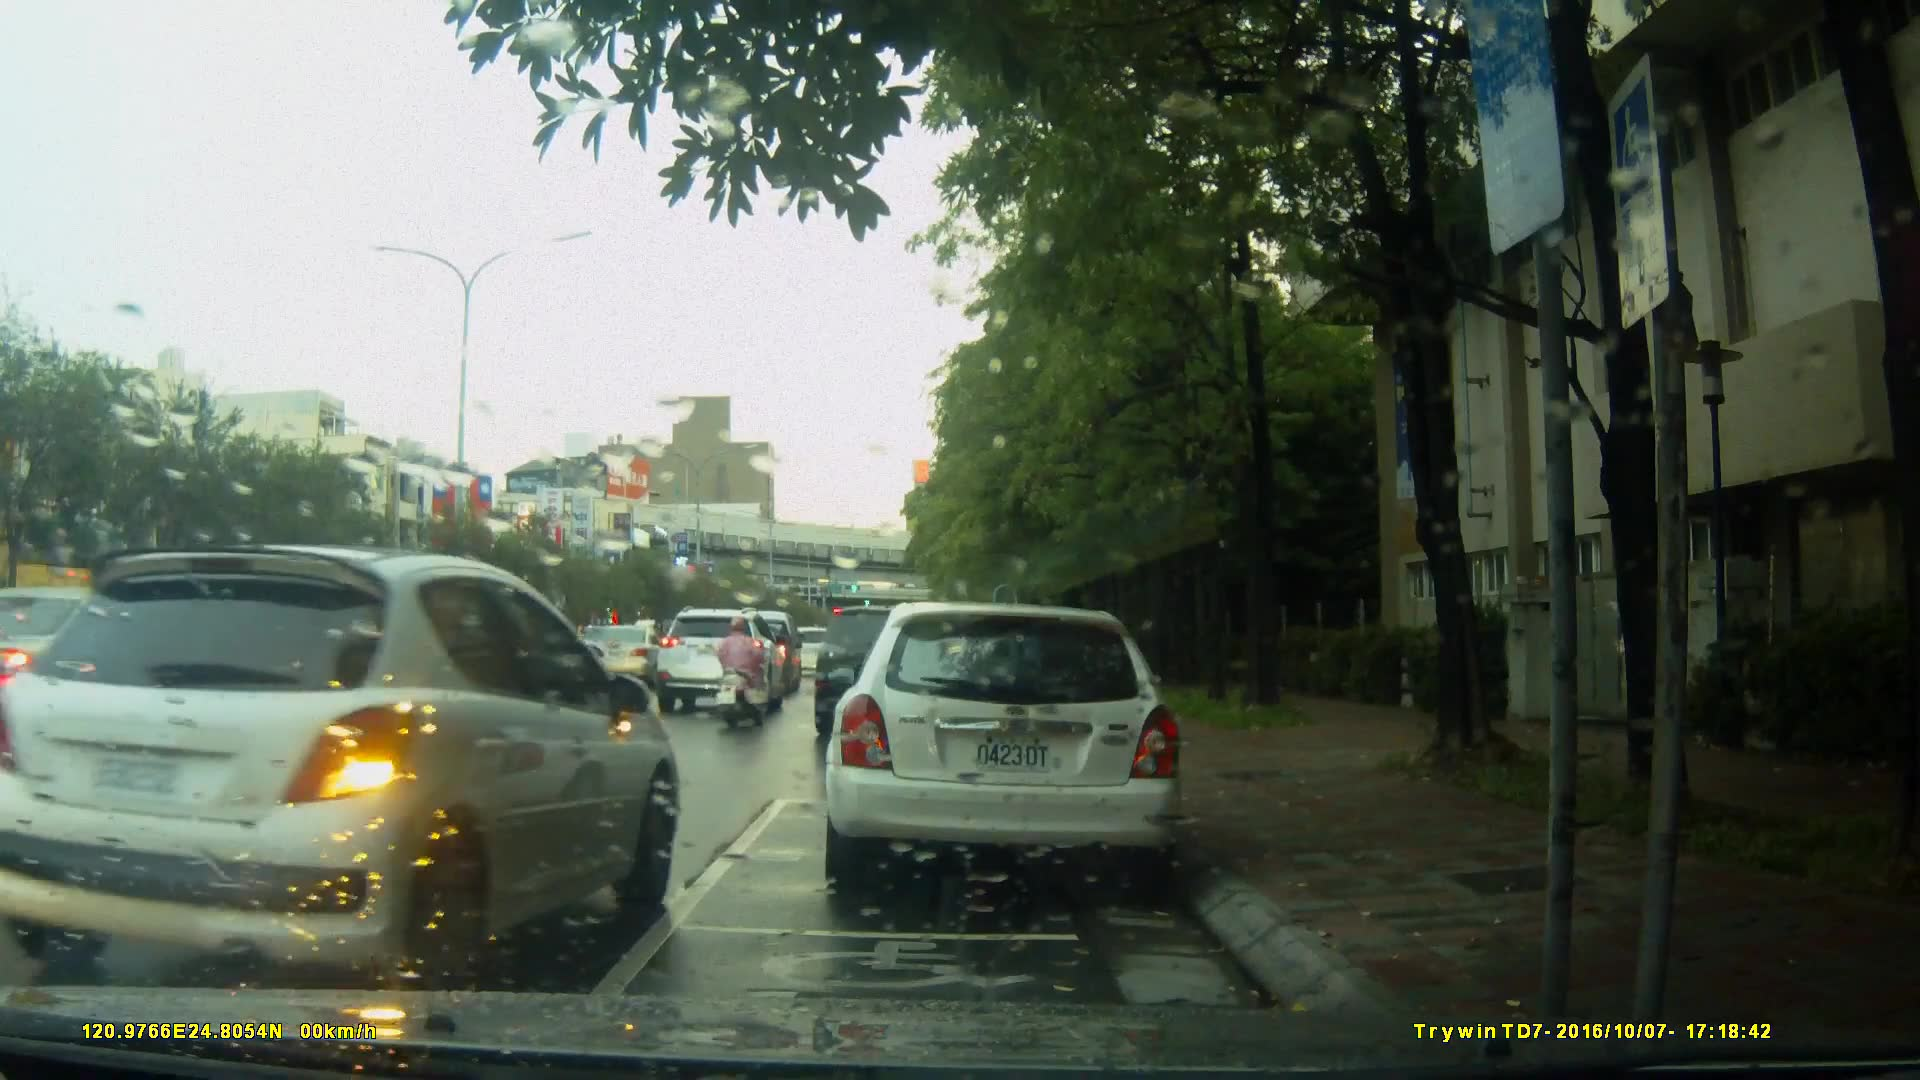rider: (711, 609, 768, 735)
vehicle: (1, 541, 686, 990), (820, 602, 1188, 898), (655, 608, 787, 718)
